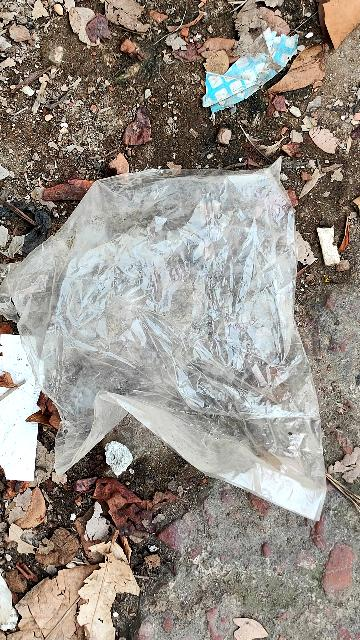polythene: (8, 173, 330, 546)
